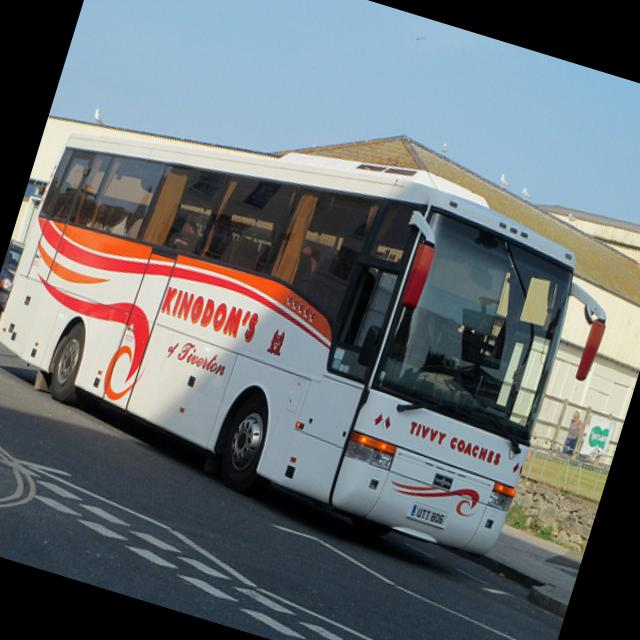Vehicle: (0, 58, 636, 583), (0, 233, 27, 322)
